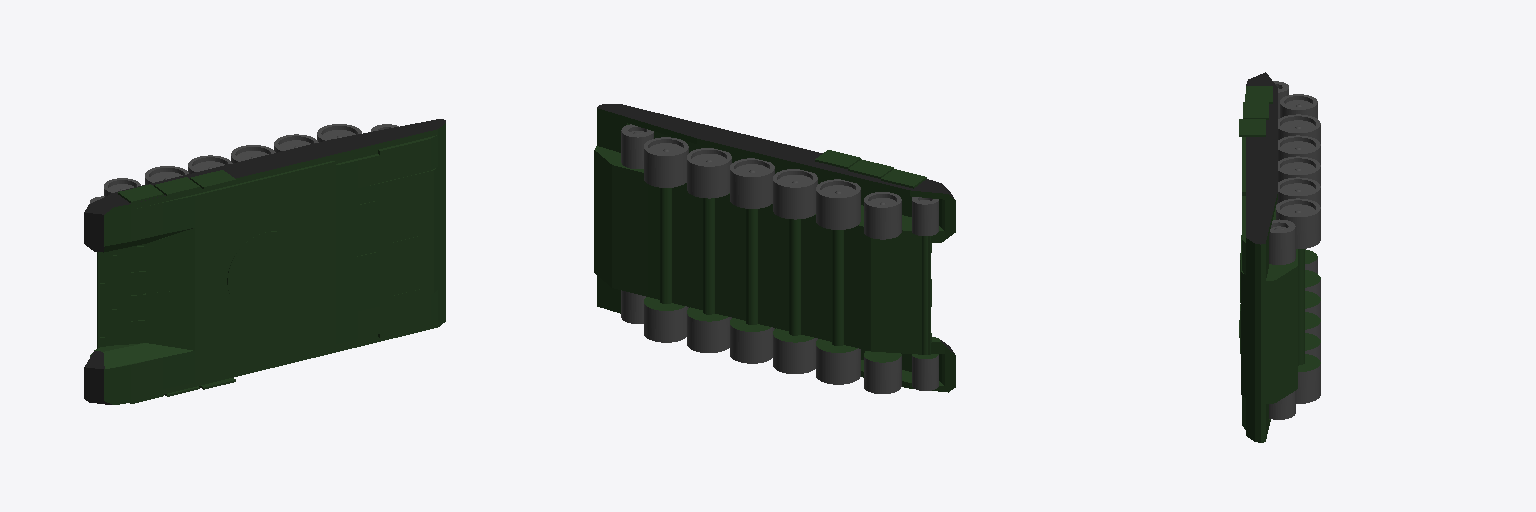
File: Hull-F360.obj
The picture shows the model from 3 angles: view 1: azimuth 30°, elevation 25°; view 2: azimuth 150°, elevation 25°; view 3: azimuth 270°, elevation 25°; orthographic projection.
Visible parts, largest first — view 1: Hull; view 2: Hull; view 3: Hull.
Part boxes in pixels (left/top/right/bottom): Hull: left=84, top=119, right=445, bottom=404; Hull: left=594, top=104, right=955, bottom=393; Hull: left=1239, top=72, right=1320, bottom=442.
Bounding box in the file's own units: 94.82 × 51 × 18.59.